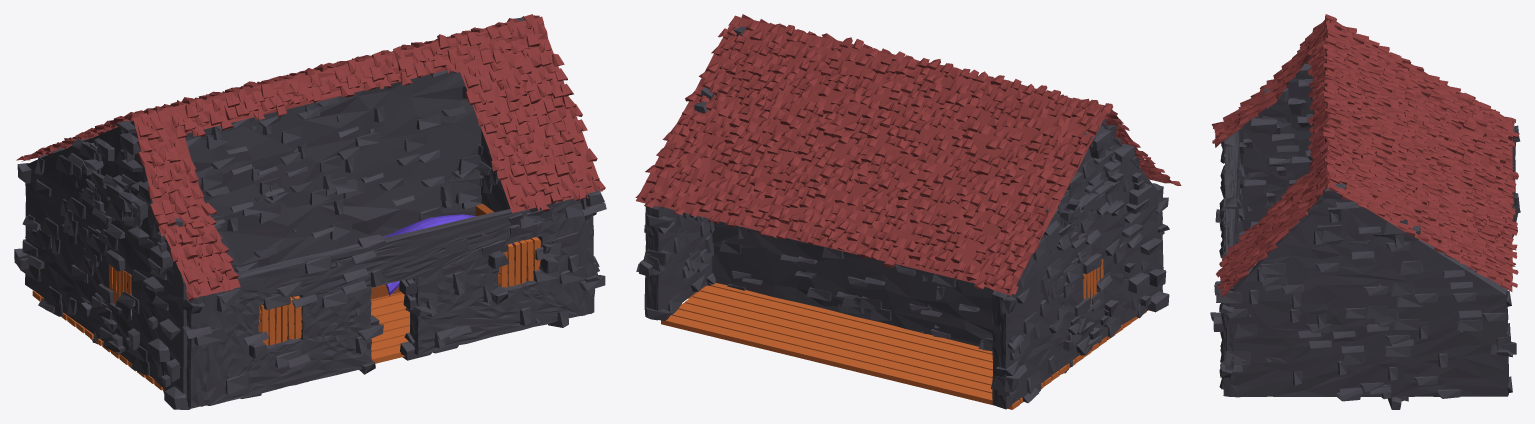
File: house2.glb
3 views of the same model, side by side, from view 1: azimuth 30°, elevation 25°; view 2: azimuth 150°, elevation 25°; view 3: azimuth 270°, elevation 25° (orthographic). The views are drawn at different scales.
Visible parts, largest first — view 1: wall.010, Cube.080, Cube.079, Plane.027, window.021, window.023, Cube.083, window.022; view 2: Cube.079, wall.010, Cube.080, Plane.027, window.022; view 3: wall.010, Cube.079.
Part boxes in pixels (x1=…): wall.010: x1=14, y1=17, x2=606, y2=409; Cube.080: x1=78, y1=70, x2=484, y2=344; Cube.079: x1=16, y1=14, x2=605, y2=300; Plane.027: x1=32, y1=274, x2=498, y2=391; window.021: x1=497, y1=237, x2=541, y2=287; window.023: x1=258, y1=296, x2=302, y2=345; Cube.083: x1=383, y1=214, x2=512, y2=296; window.022: x1=109, y1=264, x2=131, y2=316; Cube.079: x1=635, y1=14, x2=1181, y2=295; wall.010: x1=636, y1=26, x2=1169, y2=409; Cube.080: x1=712, y1=189, x2=1079, y2=373; Plane.027: x1=661, y1=283, x2=1147, y2=409; window.022: x1=1082, y1=259, x2=1103, y2=303; wall.010: x1=1210, y1=34, x2=1520, y2=401; Cube.079: x1=1211, y1=14, x2=1519, y2=297.
Size of the model in its own units: 13.99 by 8.52 by 10.36.
